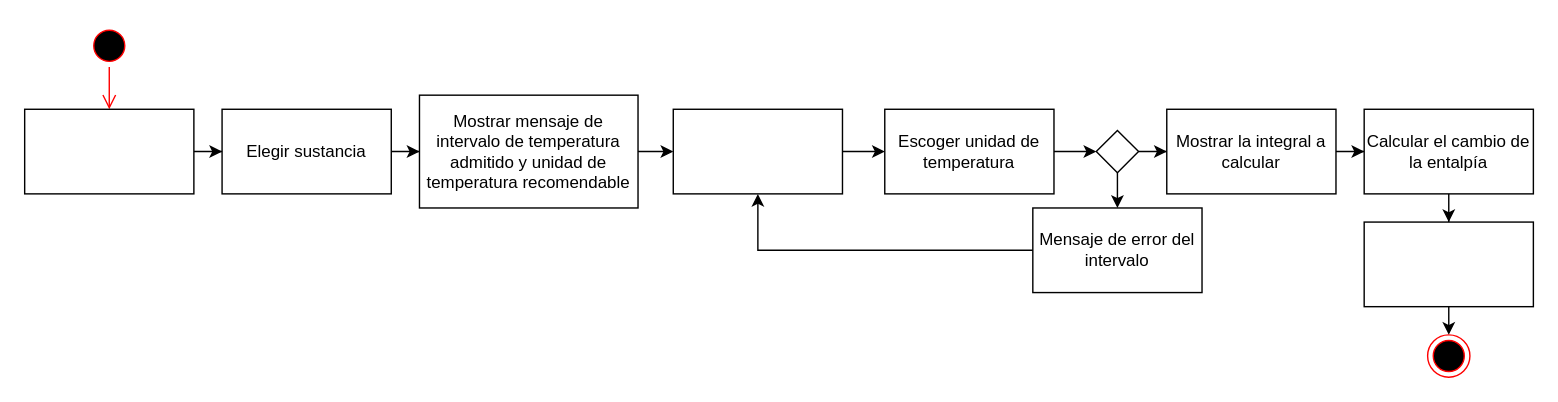
The diagram is 1558 pixels wide and 402 high, and some of its shapes have lost their labels. Here are the shapes that lost their labels. From the top down, the centre of each, then its label:
At [108,151]: "Abrir aplicación".
At [757,151]: "Escribir intervalo de temperatura".
At [1448,264]: "Mostrar resultado y caracteristicas de sustancia en GUI".
